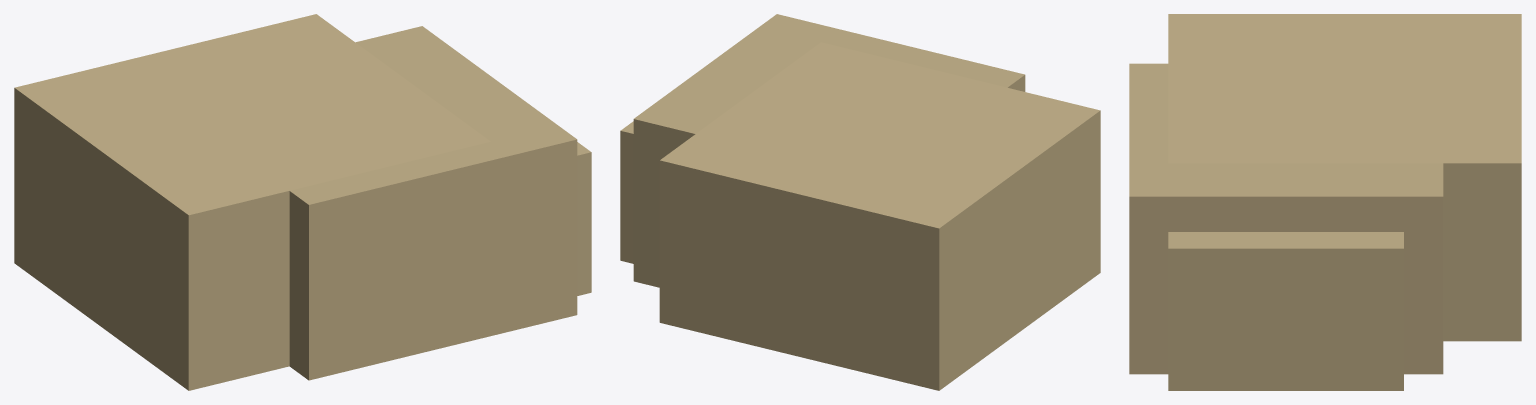
Rendered from arenisca_06.glb.
3 renders of one model, left to right at view 1: azimuth 30°, elevation 25°; view 2: azimuth 150°, elevation 25°; view 3: azimuth 270°, elevation 25°, orthographic. The views are drawn at different scales.
Parts seen in each view (by area): view 1: arenisca_06; view 2: arenisca_06; view 3: arenisca_06.
Part boxes in pixels (x1,y1,x2,y2): arenisca_06: (14, 14, 591, 390); arenisca_06: (620, 14, 1100, 390); arenisca_06: (1129, 14, 1521, 390).
Bounding box in the file's own units: 1.2 × 0.5 × 1.
